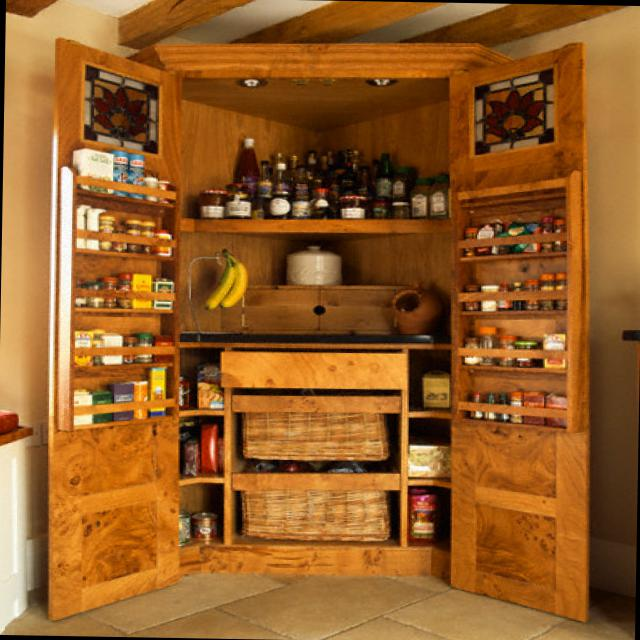bananas: (199, 254, 246, 310)
basket crop: (237, 488, 393, 538), (241, 408, 394, 457)
beam: (223, 0, 437, 42), (397, 3, 617, 41), (112, 0, 244, 46)
bottles occluded: (229, 133, 408, 218)
box contants: (69, 364, 164, 424), (66, 146, 111, 190)
can: (188, 506, 218, 538)
ceiling beam: (29, 0, 628, 43)
door bars: (446, 39, 585, 617), (43, 34, 179, 615)
flasks: (462, 267, 564, 306)
floor -X: (0, 570, 632, 640)
jar -X: (222, 182, 248, 216), (197, 187, 222, 217), (337, 193, 365, 215), (267, 190, 289, 215), (365, 193, 389, 215)
jars: (406, 165, 442, 215)
pane: (471, 65, 553, 152), (80, 61, 157, 150)
pantry door: (45, 34, 586, 621)
pot hanger: (283, 241, 338, 283)
wall clock: (487, 5, 640, 592)
